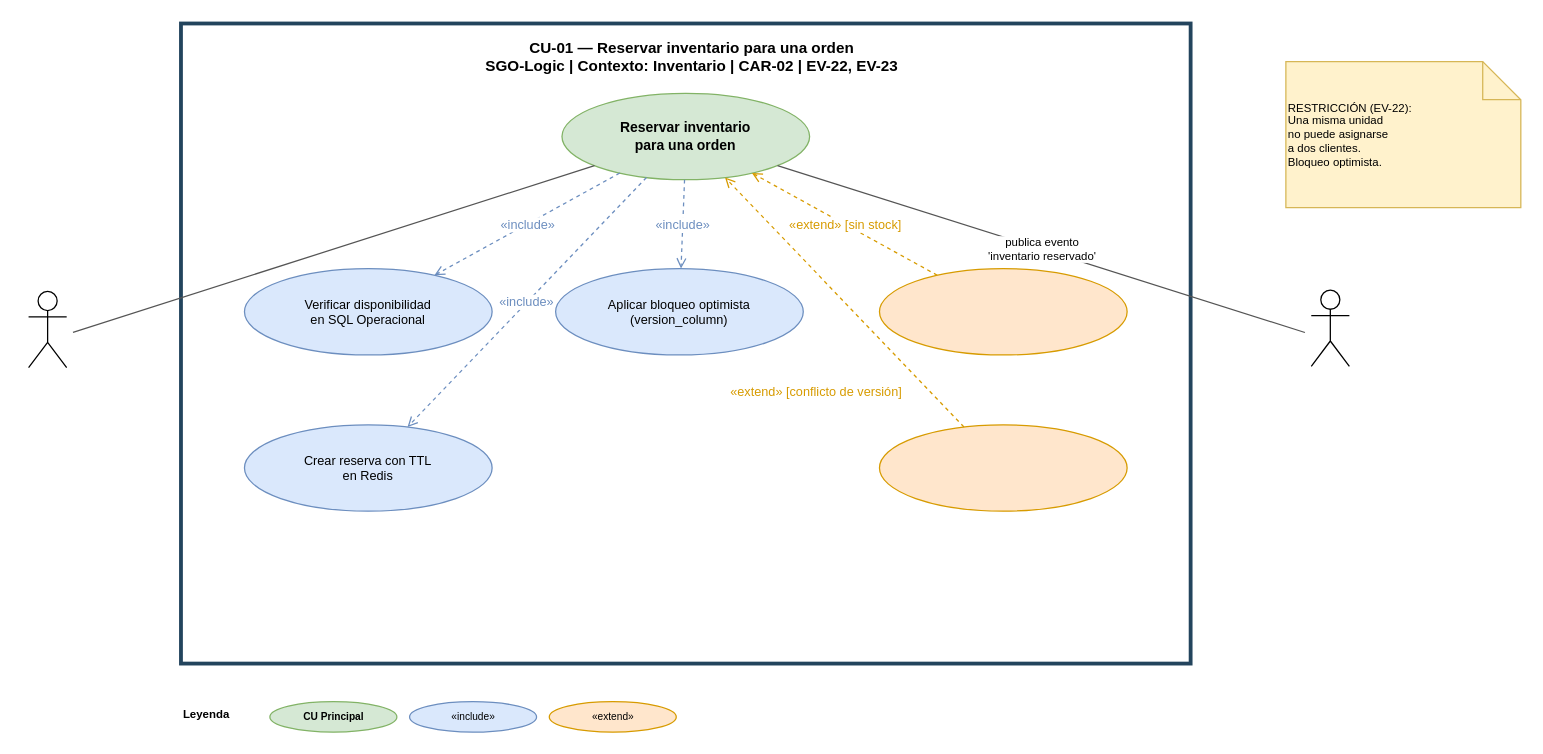
Image size: 1543x754. Some labels were removed from this diagram. Each missing label, with the centre of its shape:
Auditoría (sistema): the point at 1329,327
Notificar existencia insuficiente: the point at 1002,311
Reintentar por conflicto de versión: the point at 1002,467
Órdenes (sistema): the point at 47,329
